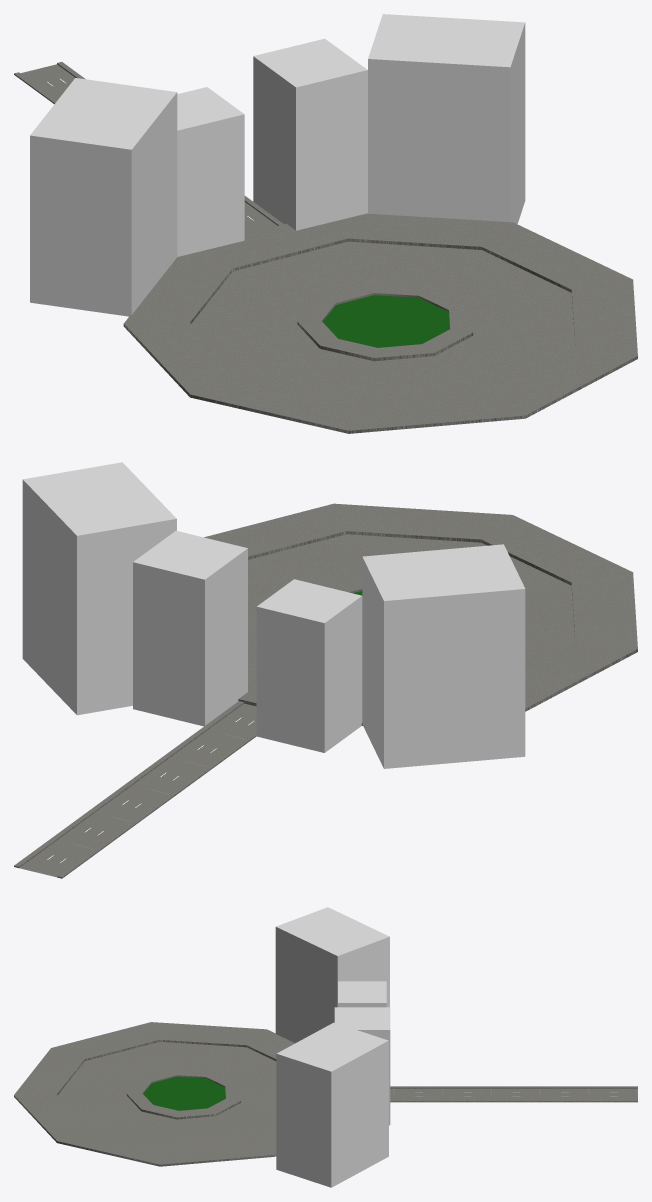
File: plein - test.fbx
The picture shows the model from 3 angles, top to bottom: view 1: azimuth 30°, elevation 25°; view 2: azimuth 150°, elevation 25°; view 3: azimuth 270°, elevation 25°; orthographic projection. The views are drawn at different scales.
Parts seen in each view (by area): view 1: Plein, Sidebuilding_right, Sidebuilding_Left, Right_building, Left_Building, Road; view 2: Sidebuilding_Left, Plein, Sidebuilding_right, Right_building, Left_Building, Road; view 3: Plein, Sidebuilding_right, Sidebuilding_Left, Road, Right_building, Left_Building.
Boxes of the visible parts, <box> form: Plein: <box>123,213,637,433</box>; Sidebuilding_right: <box>368,14,525,224</box>; Sidebuilding_Left: <box>30,78,177,316</box>; Right_building: <box>253,38,367,230</box>; Left_Building: <box>177,87,244,256</box>; Road: <box>14,62,283,234</box>; Sidebuilding_Left: <box>362,544,525,768</box>; Plein: <box>204,503,637,725</box>; Sidebuilding_right: <box>22,462,176,715</box>; Right_building: <box>133,530,247,726</box>; Left_Building: <box>256,579,362,752</box>; Road: <box>14,701,256,878</box>; Plein: <box>14,1022,294,1166</box>; Sidebuilding_right: <box>276,1022,388,1187</box>; Sidebuilding_Left: <box>275,907,389,1043</box>; Road: <box>390,1086,637,1102</box>; Right_building: <box>334,1007,390,1125</box>; Left_Building: <box>338,981,386,1007</box>.
Bounding box in the file's own units: 10380 × 3767 × 17340.
4 materials, 3 textured.
